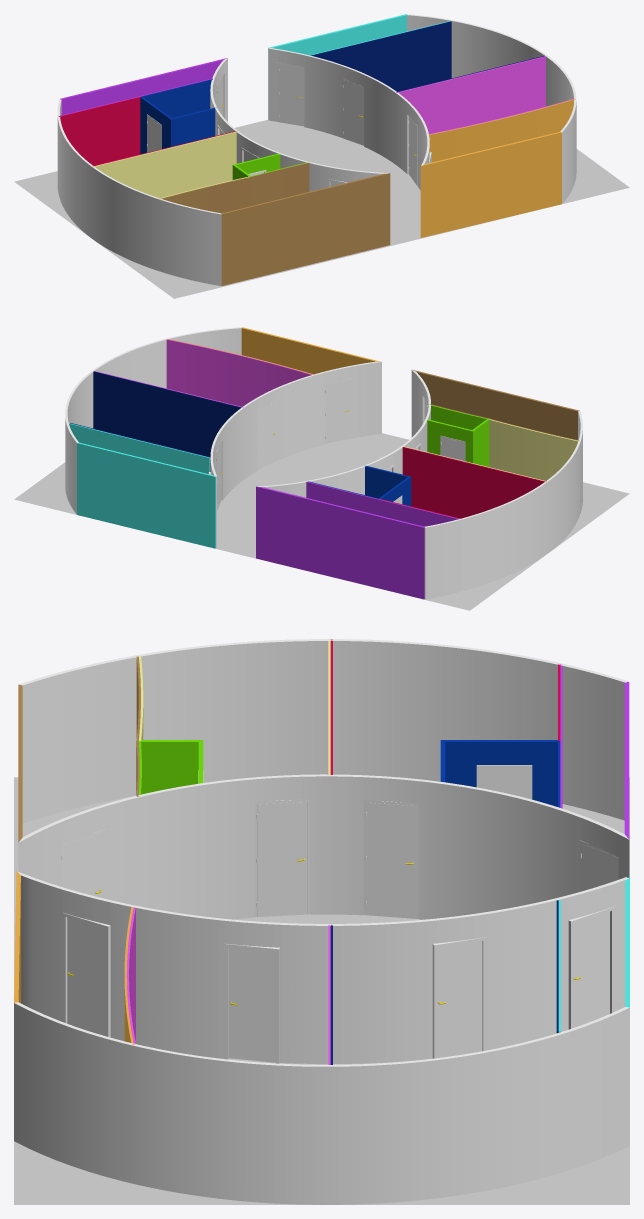
File: MODELO_A.glb
3 views of the same model, one above another, from view 1: azimuth 30°, elevation 25°; view 2: azimuth 150°, elevation 25°; view 3: azimuth 270°, elevation 25° (orthographic). The views are drawn at different scales.
Parts seen in each view (by area): view 1: MODELO_A; view 2: MODELO_A; view 3: MODELO_A.
Boxes of the visible parts, left/top/right/bottom form: MODELO_A: left=14, top=14, right=629, bottom=298; MODELO_A: left=14, top=327, right=629, bottom=610; MODELO_A: left=14, top=639, right=629, bottom=1204.
Size of the model in its own units: 1660 by 251 by 1010.
